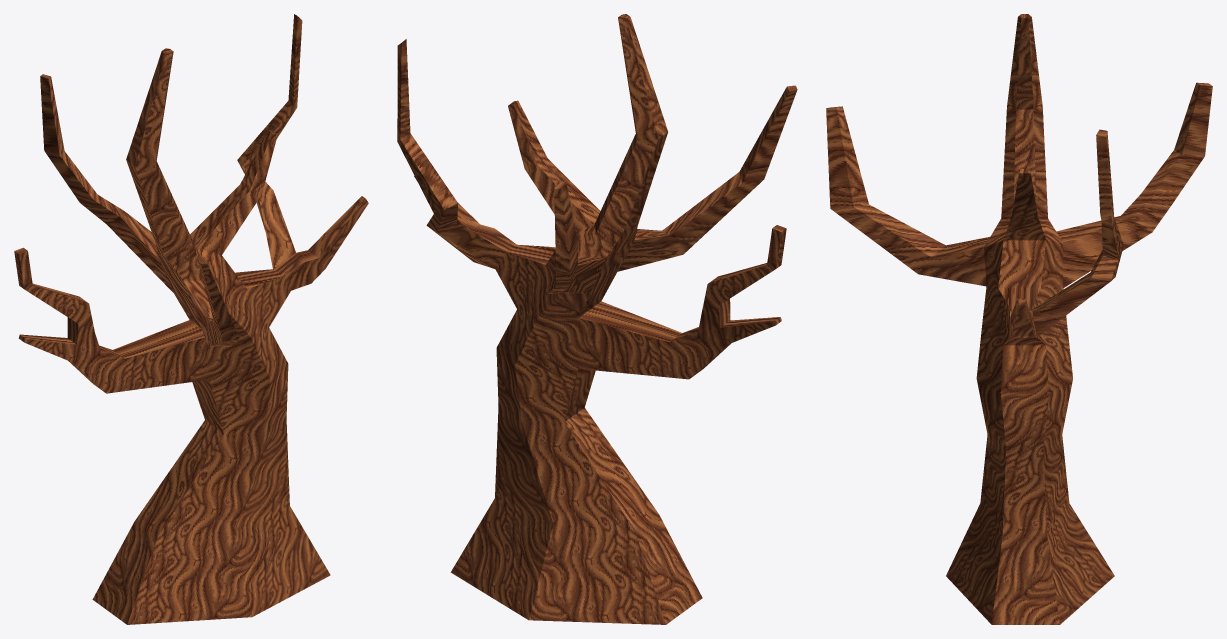
File: SM_Tree 1.fbx
The picture shows the model from 3 angles, left to right: view 1: azimuth 30°, elevation 25°; view 2: azimuth 150°, elevation 25°; view 3: azimuth 270°, elevation 25°; orthographic projection. The views are drawn at different scales.
Visible parts, largest first — view 1: SM_TREE; view 2: SM_TREE; view 3: SM_TREE.
Part boxes in pixels (box(x1,y1,x2,y2)): SM_TREE: box(14, 14, 368, 624); SM_TREE: box(397, 14, 797, 624); SM_TREE: box(826, 14, 1212, 624).
Bounding box in the file's own units: 307 × 460 × 300.
1 material, 1 textured.
